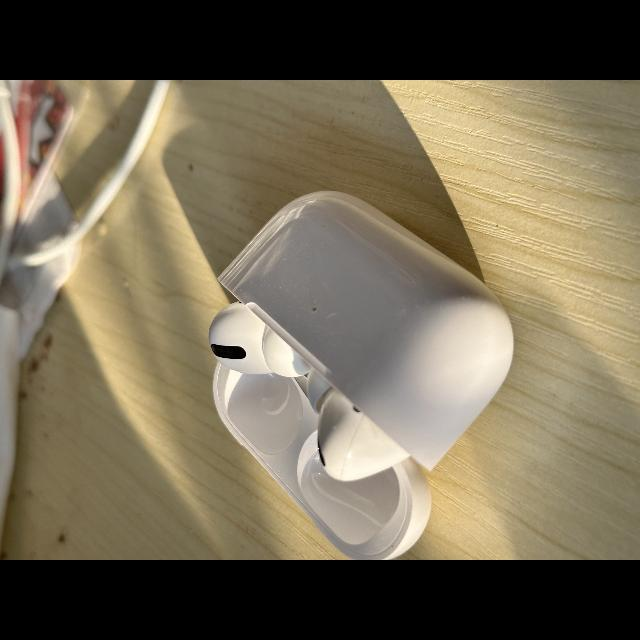AirPods Pro: (208, 190, 514, 560)
